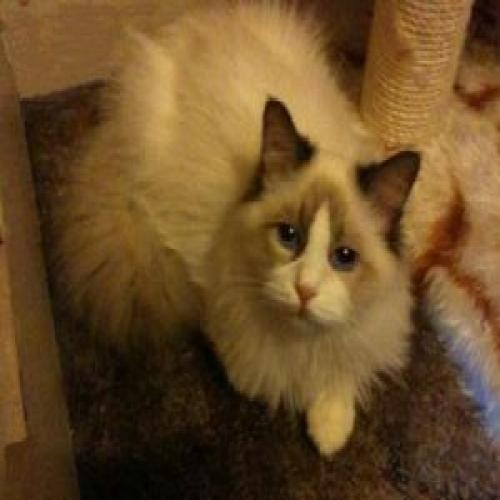ragdoll: (227, 90, 429, 364)
